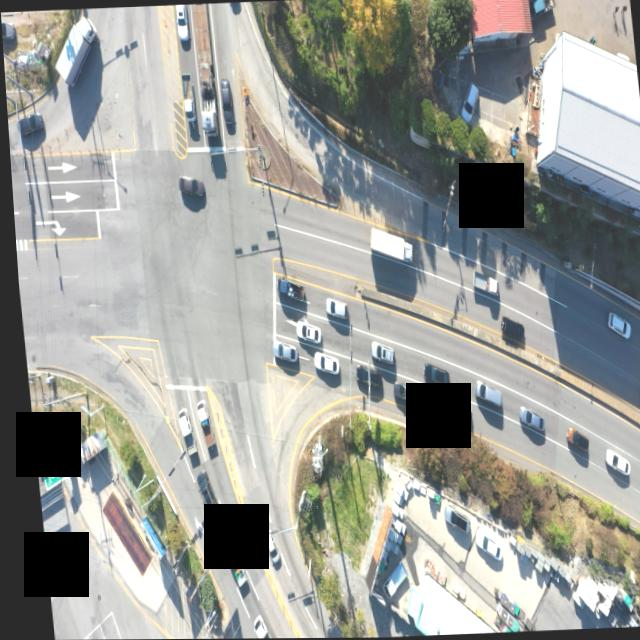car: (185, 470, 208, 517), (467, 529, 494, 562), (457, 85, 478, 126), (466, 379, 495, 408), (437, 401, 466, 429), (493, 315, 520, 344), (595, 448, 621, 477), (436, 504, 461, 533), (602, 311, 626, 341), (215, 80, 231, 125), (509, 407, 535, 434), (305, 350, 333, 375), (417, 364, 444, 389), (362, 340, 389, 365), (173, 174, 201, 198), (289, 321, 315, 346), (348, 362, 375, 386), (15, 111, 43, 134), (559, 425, 584, 450), (386, 381, 412, 405), (266, 340, 293, 363), (254, 529, 270, 565), (319, 298, 343, 321), (173, 4, 186, 41), (1, 18, 14, 38)
large_truck: (188, 3, 219, 140)
medium_truck: (50, 14, 97, 90), (361, 225, 406, 263), (633, 386, 640, 425)
small_truck: (214, 539, 239, 590), (186, 401, 210, 451), (372, 562, 399, 602), (171, 409, 188, 455), (272, 274, 299, 301), (464, 271, 491, 297), (179, 72, 194, 118), (243, 611, 260, 639), (529, 0, 555, 18)
